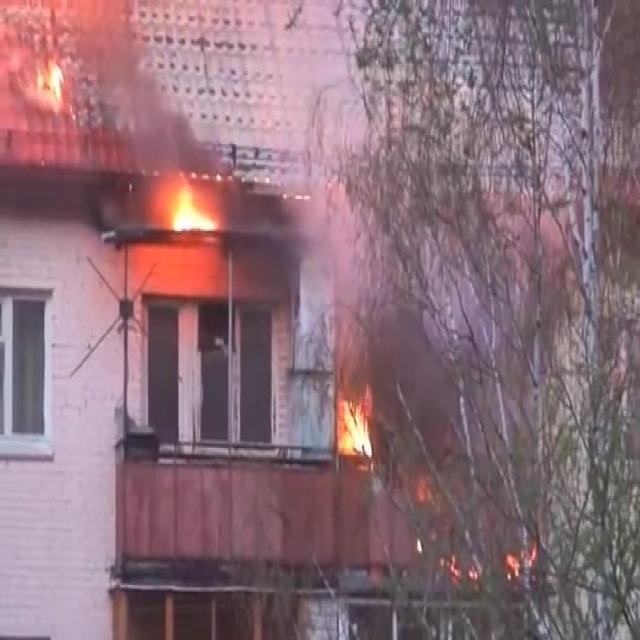Fire: (156, 174, 223, 244), (332, 384, 378, 468)
Smoke: (0, 0, 224, 252), (279, 42, 451, 364)
